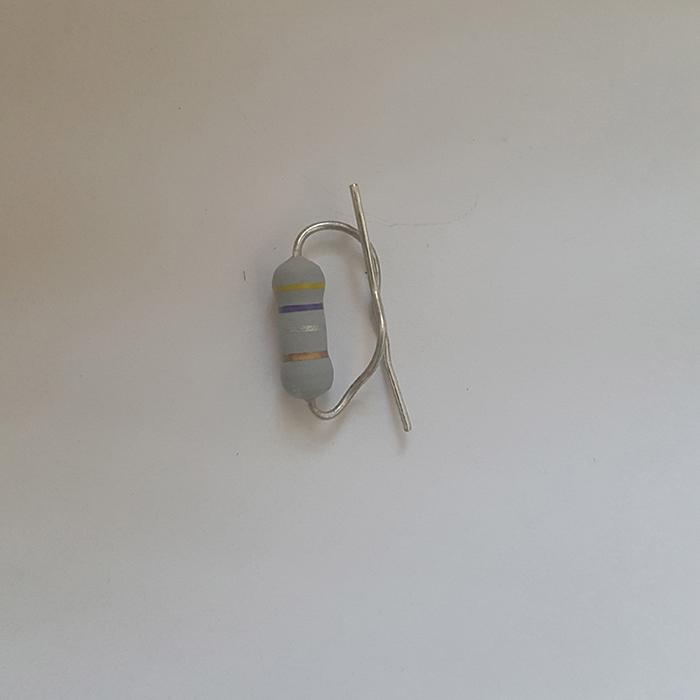resistor: (270, 253, 333, 404)
